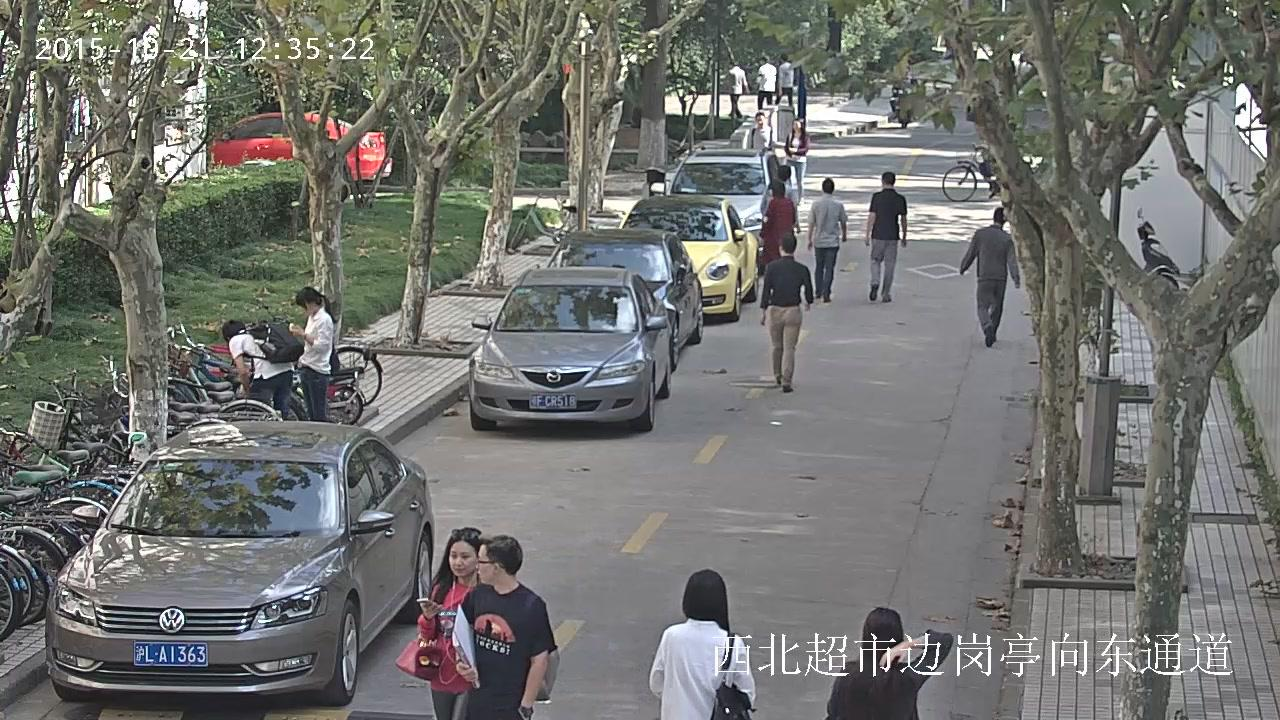face: (450, 541, 476, 577), (476, 544, 493, 583), (301, 305, 310, 315), (757, 115, 764, 127), (793, 120, 801, 130), (759, 59, 764, 64)
